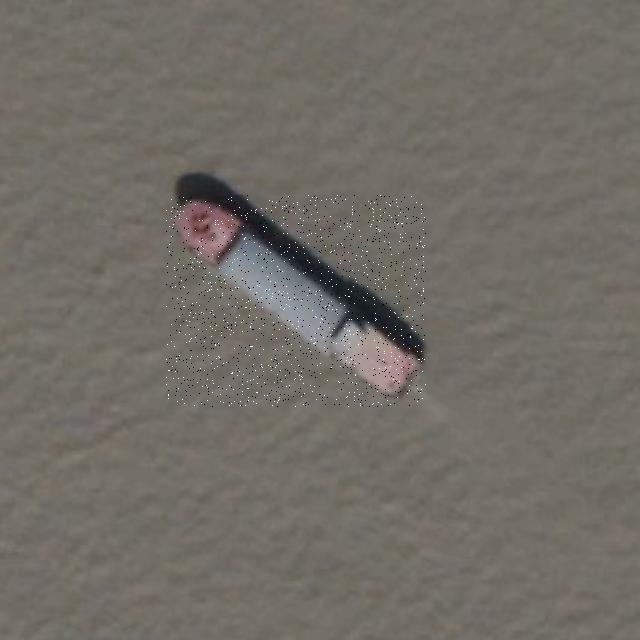boat: (166, 195, 426, 408)
